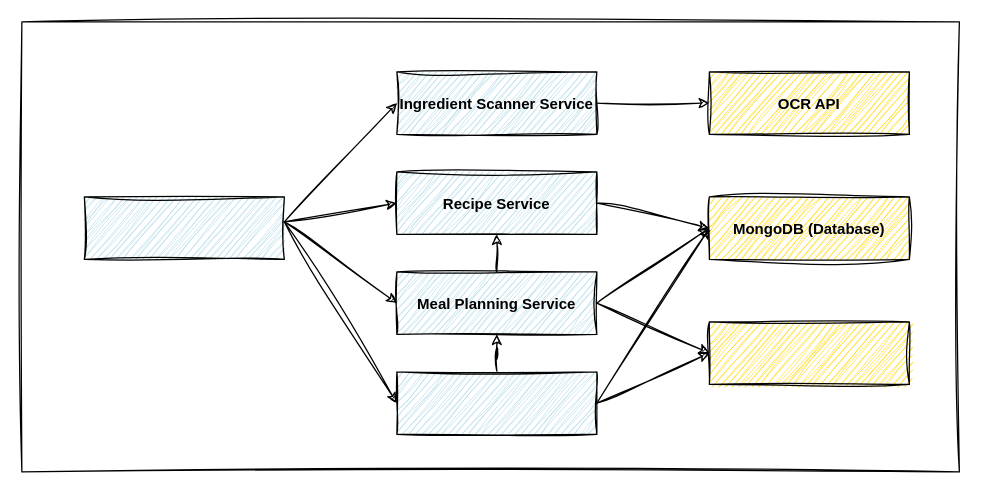
Some shapes in this 981 by 493 pixel diagram are drawn without their labels. The centre of each missing label's shape, as x and y in pixels:
Frontend (React): the point at 183,227
RabbitMQ/Kafka: the point at 808,352
Shopping List Service: the point at 496,402
